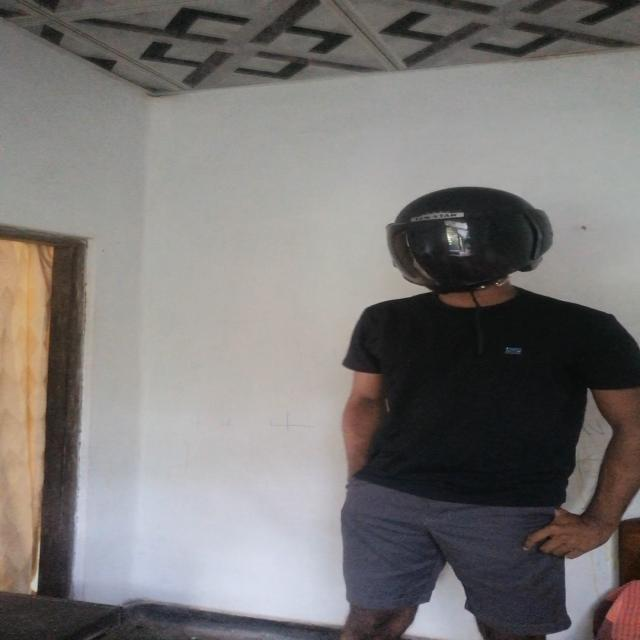Helmet_Wearer: (378, 179, 558, 323)
Person: (314, 184, 640, 637)
